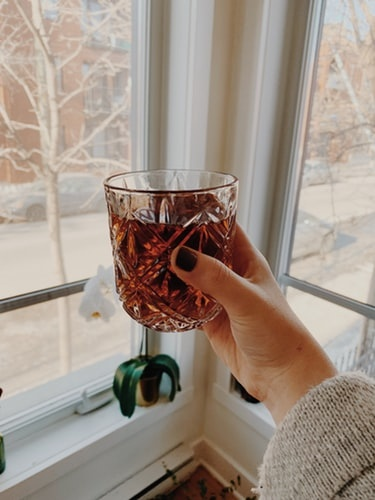whiskey: (114, 177, 237, 325)
